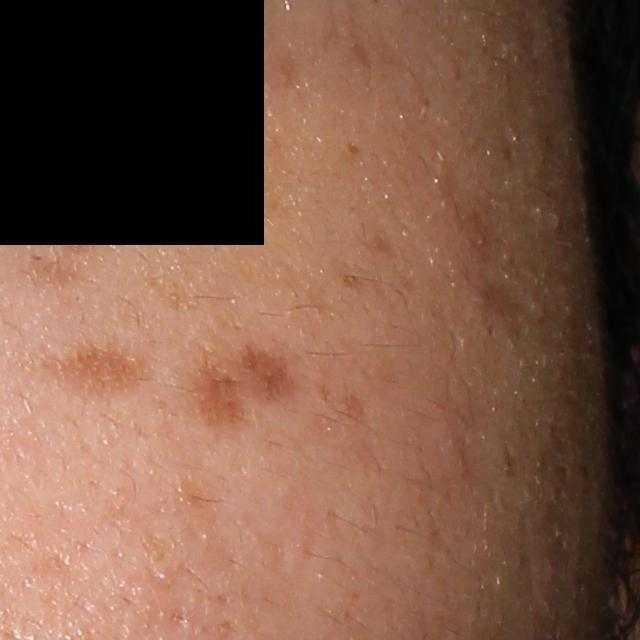melasma: (202, 342, 314, 440), (238, 264, 348, 346), (40, 342, 156, 402), (434, 140, 482, 272), (444, 268, 534, 338), (20, 254, 86, 296), (138, 276, 200, 319), (314, 384, 369, 424), (337, 258, 378, 294), (277, 44, 302, 102), (351, 35, 367, 81)
